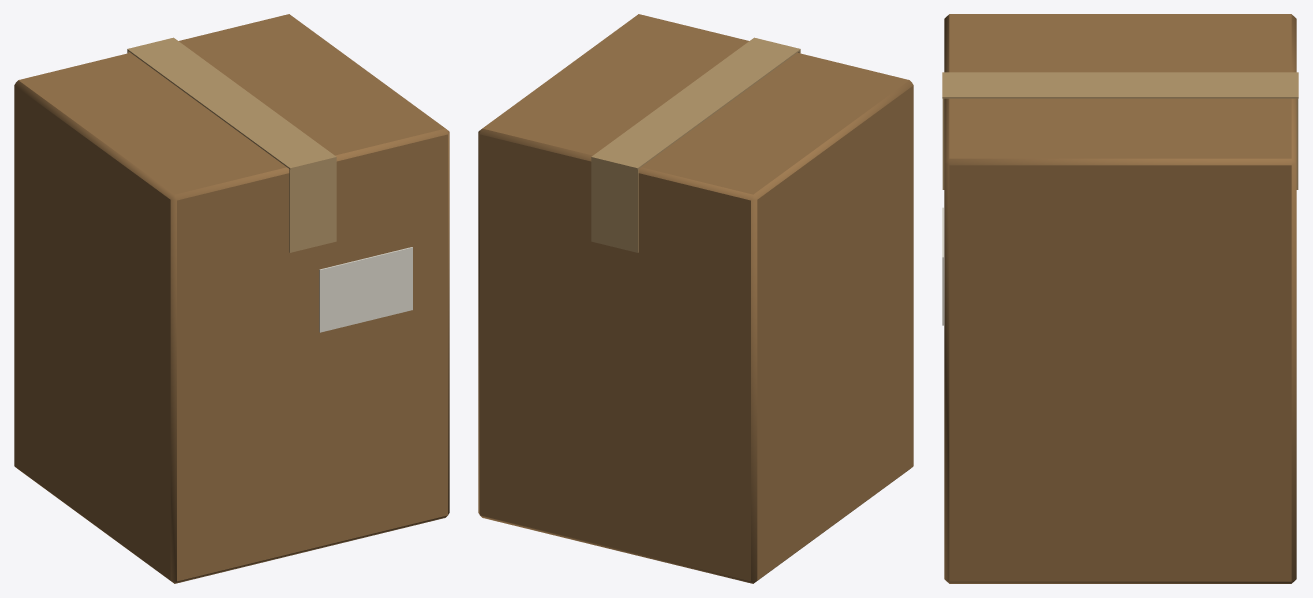
File: cardboardBoxClosed.glb
3 views of the same model, side by side, from view 1: azimuth 30°, elevation 25°; view 2: azimuth 150°, elevation 25°; view 3: azimuth 270°, elevation 25° (orthographic). The views are drawn at different scales.
Visible parts, largest first — view 1: cardboardBoxClosed; view 2: cardboardBoxClosed; view 3: cardboardBoxClosed.
Part boxes in pixels (x1=…): cardboardBoxClosed: x1=14, y1=14, x2=449, y2=583; cardboardBoxClosed: x1=478, y1=14, x2=913, y2=583; cardboardBoxClosed: x1=942, y1=14, x2=1298, y2=583.
Size of the model in its own units: 0.42 by 0.562 by 0.425.
